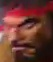ryu: (2, 2, 52, 61)
